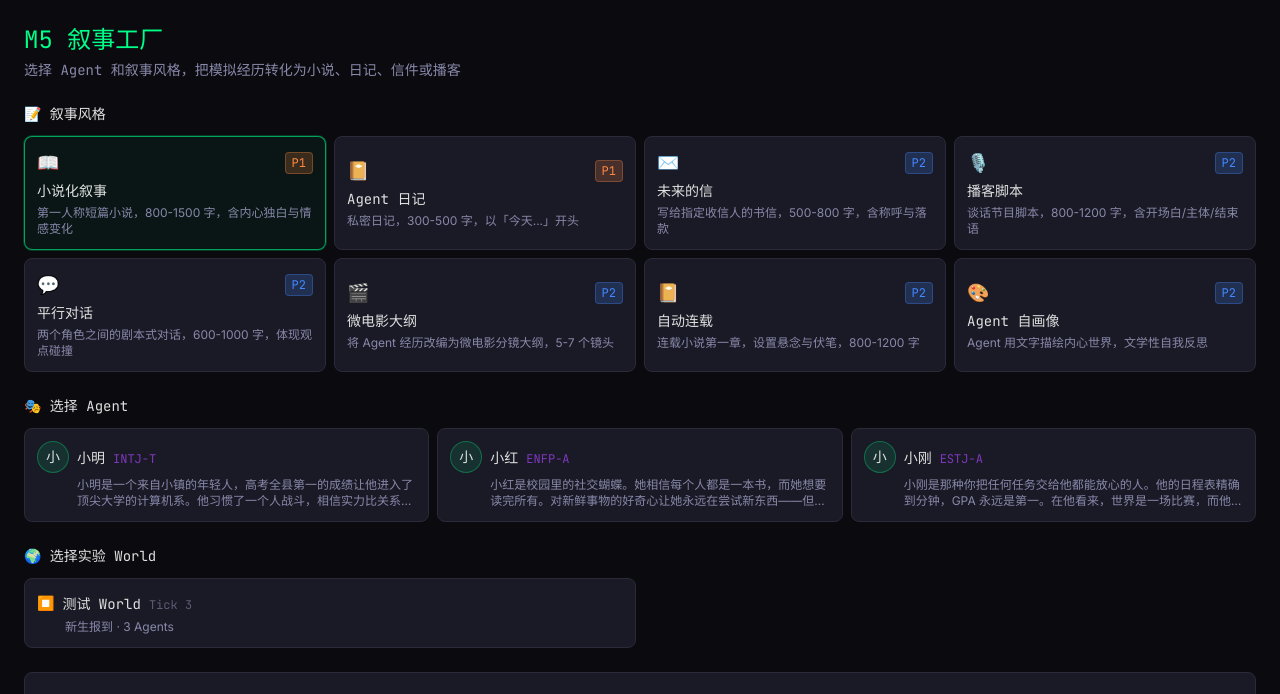
Test: Step 23 NarrativeFactory — setup phase › shows target input only for letter and podcast styles
The image size is (1280, 694).
Note: 切到 letter
Click the button "✉️ P2 未来的信 写给指定收信人的书信，500-800 字，含称呼与落款": (685, 191) [644, 136, 946, 250]
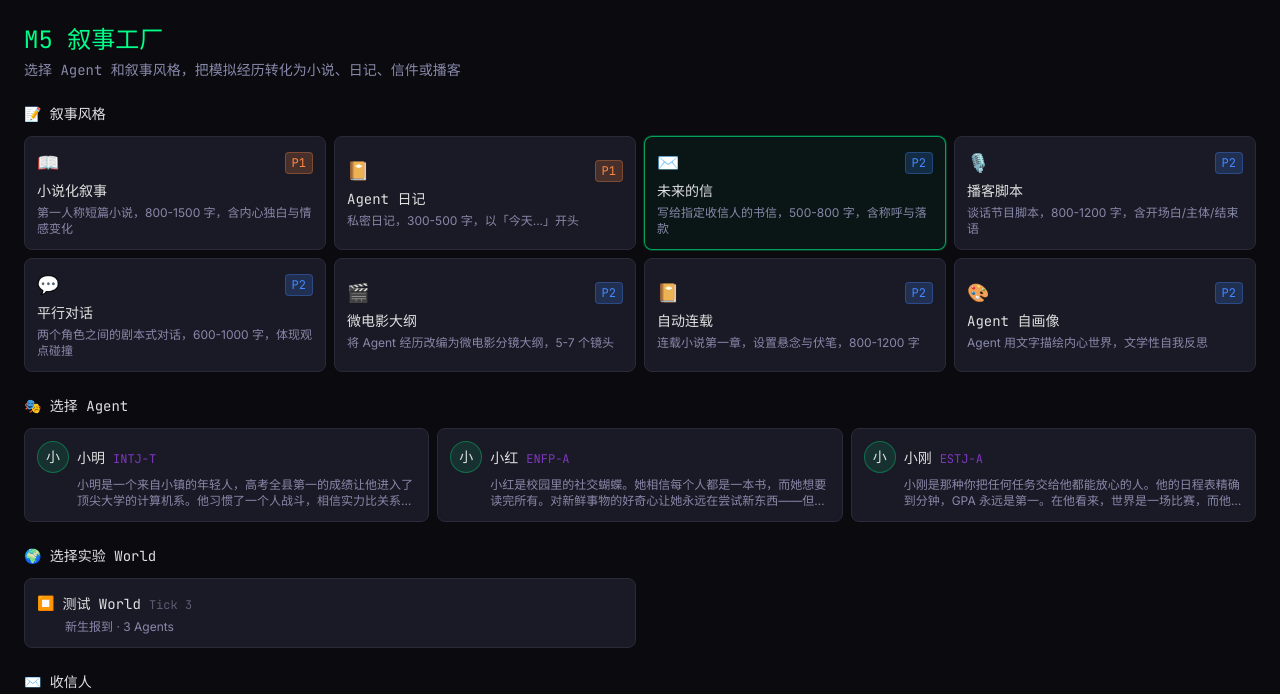
Note: 切到 diary
Click the button "📔 P1 Agent 日记 私密日记，300-500 字，以「今天...」开头": (386, 199) [334, 136, 636, 250]
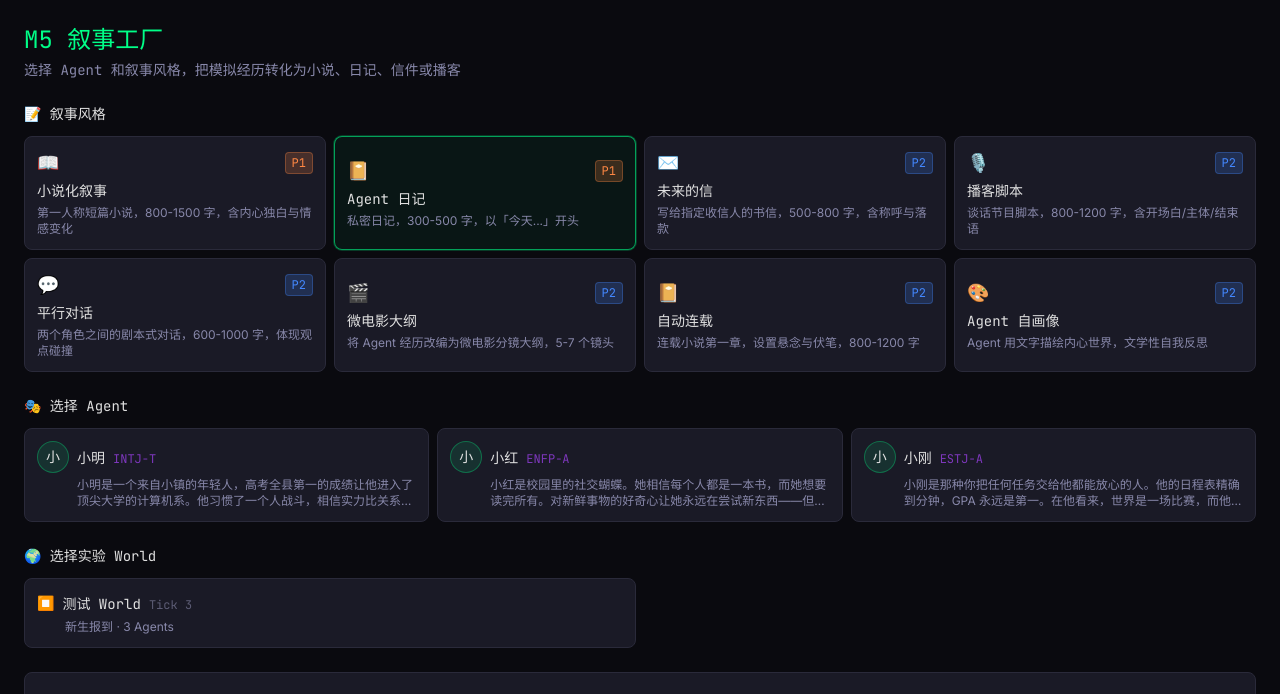
Note: 切到 podcast
Click the button "🎙️ P2 播客脚本 谈话节目脚本，800-1200 字，含开场白/主体/结束语": (995, 191) [954, 136, 1256, 250]
(page scrolled)
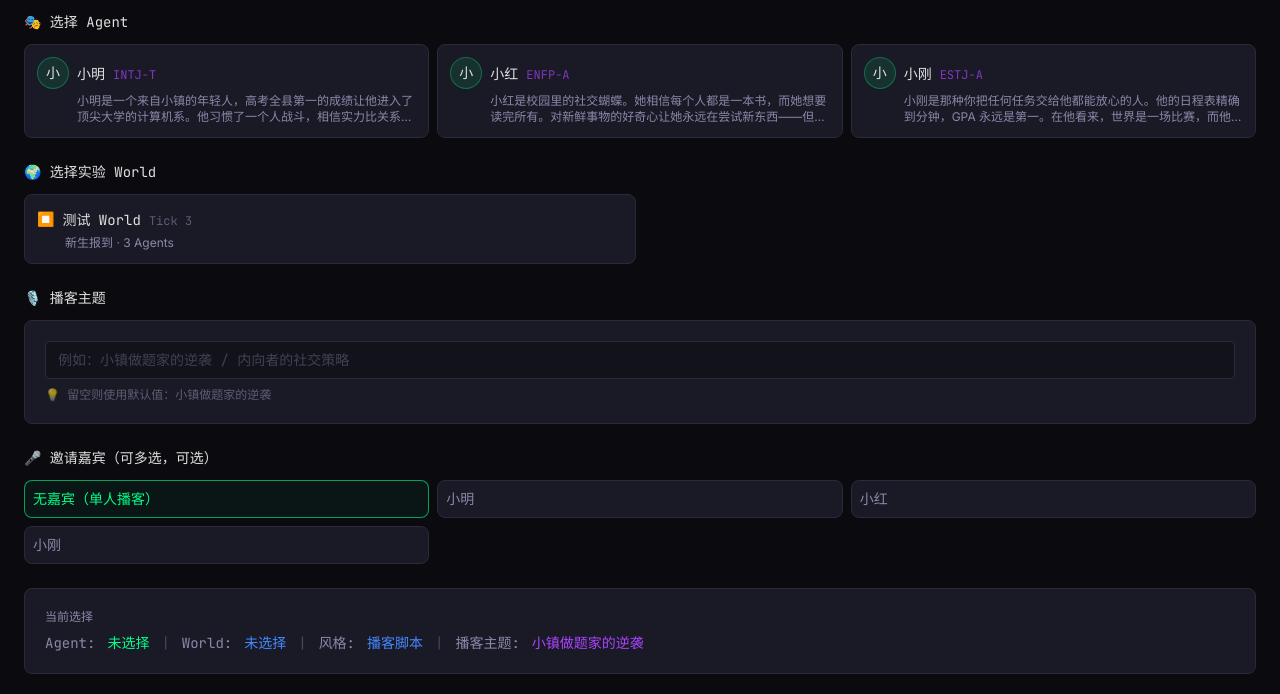
Result: the field with placeholder "例如：小镇做题家的逆袭 / 内向者的社交策略" is shown at [45, 341, 1235, 379]
